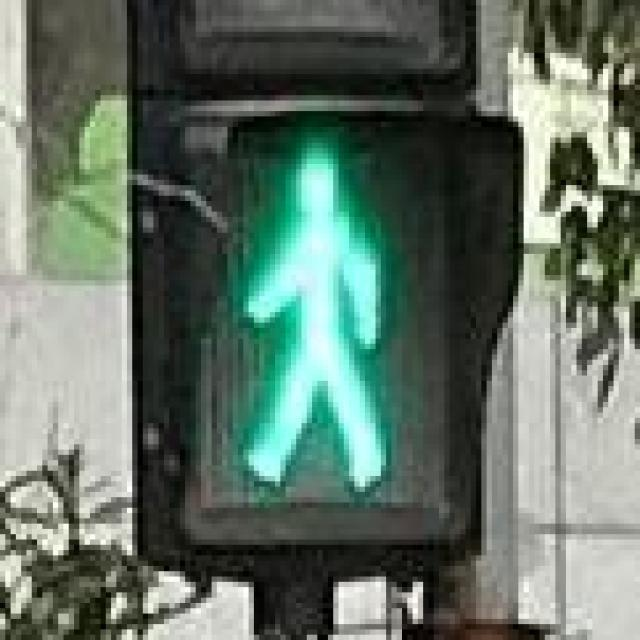geen-crossing: (169, 100, 455, 529)
